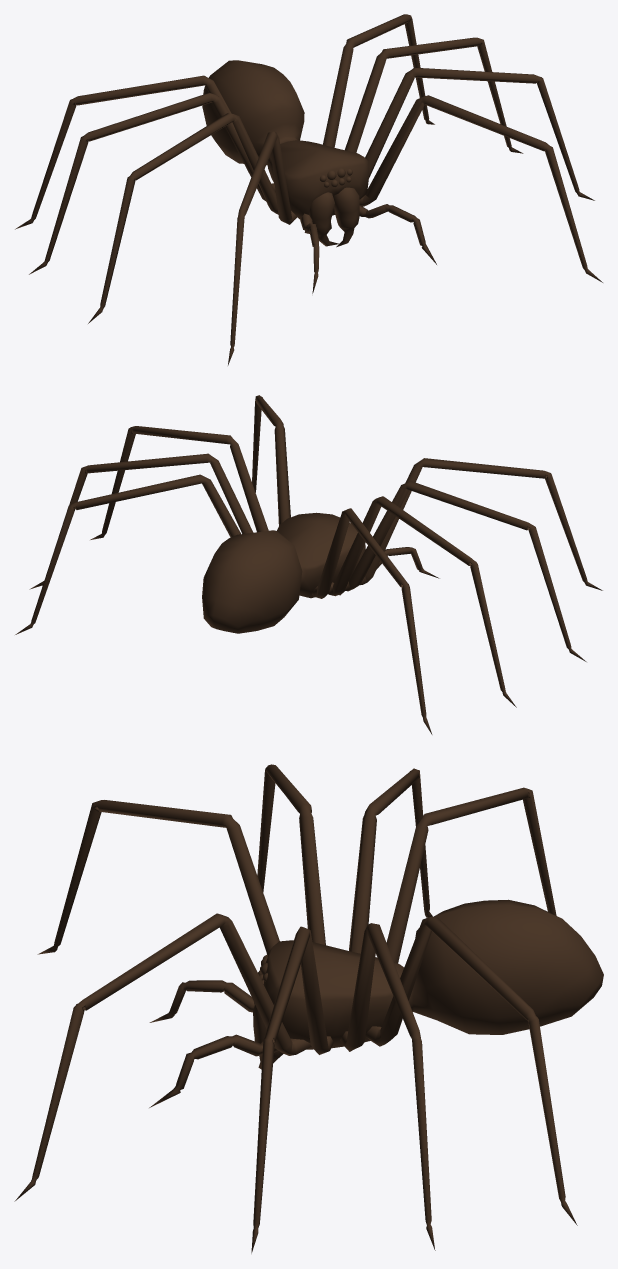
File: bigassspider.fbx
The picture shows the model from 3 angles, top to bottom: view 1: azimuth 30°, elevation 25°; view 2: azimuth 150°, elevation 25°; view 3: azimuth 270°, elevation 25°; orthographic projection. The views are drawn at different scales.
Parts seen in each view (by area): view 1: Spiders1:spider_position_1; view 2: Spiders1:spider_position_1; view 3: Spiders1:spider_position_1.
Boxes of the visible parts, <box> form: Spiders1:spider_position_1: <box>15,14,602,365</box>; Spiders1:spider_position_1: <box>15,395,602,734</box>; Spiders1:spider_position_1: <box>14,764,603,1253</box>.
Bounding box in the file's own units: 44.99 × 13.58 × 32.86.
